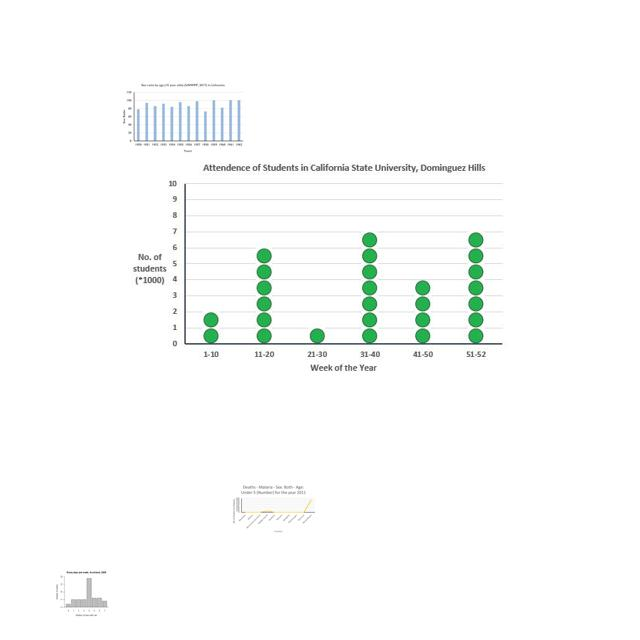Graph: (125, 157, 510, 380), (120, 79, 247, 154), (230, 483, 316, 535), (55, 571, 110, 617)
